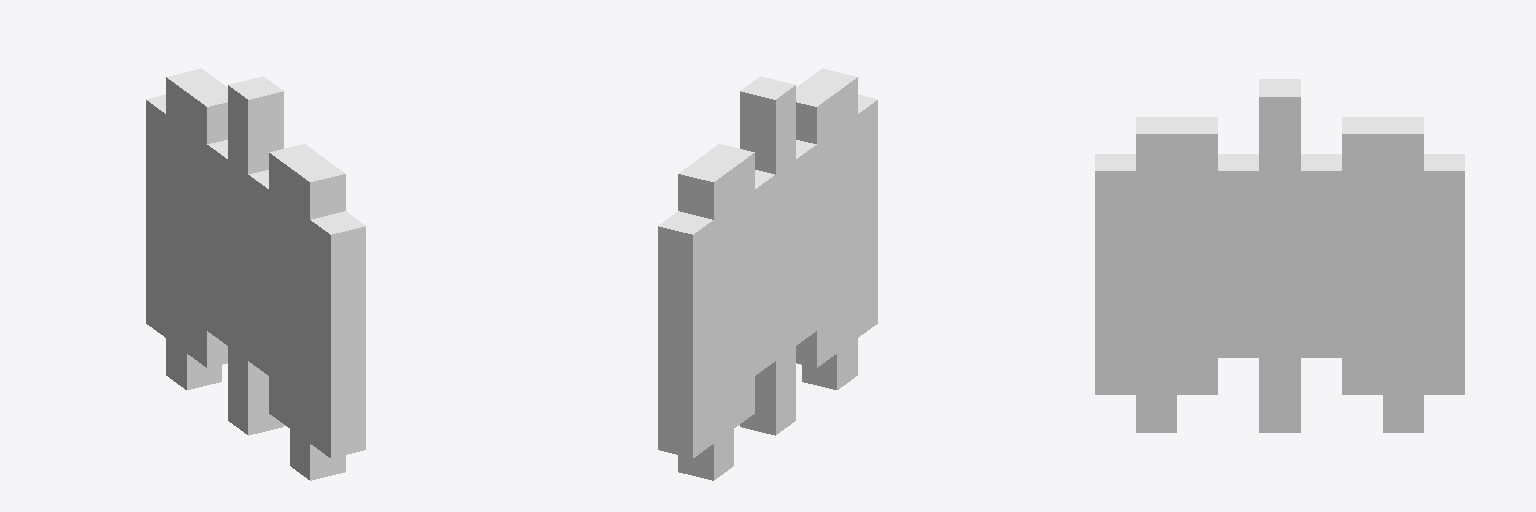
File: schmeddalueng.obj
3 renders of one model, left to right at view 1: azimuth 30°, elevation 25°; view 2: azimuth 150°, elevation 25°; view 3: azimuth 270°, elevation 25°, orthographic.
Visible parts, largest first — view 1: object 1; view 2: object 1; view 3: object 1.
Boxes of the visible parts, x1=… form: object 1: x1=146, y1=68, x2=365, y2=480; object 1: x1=658, y1=68, x2=877, y2=480; object 1: x1=1095, y1=79, x2=1464, y2=432.
Bounding box in the file's own units: 0.1 × 0.9 × 0.9.